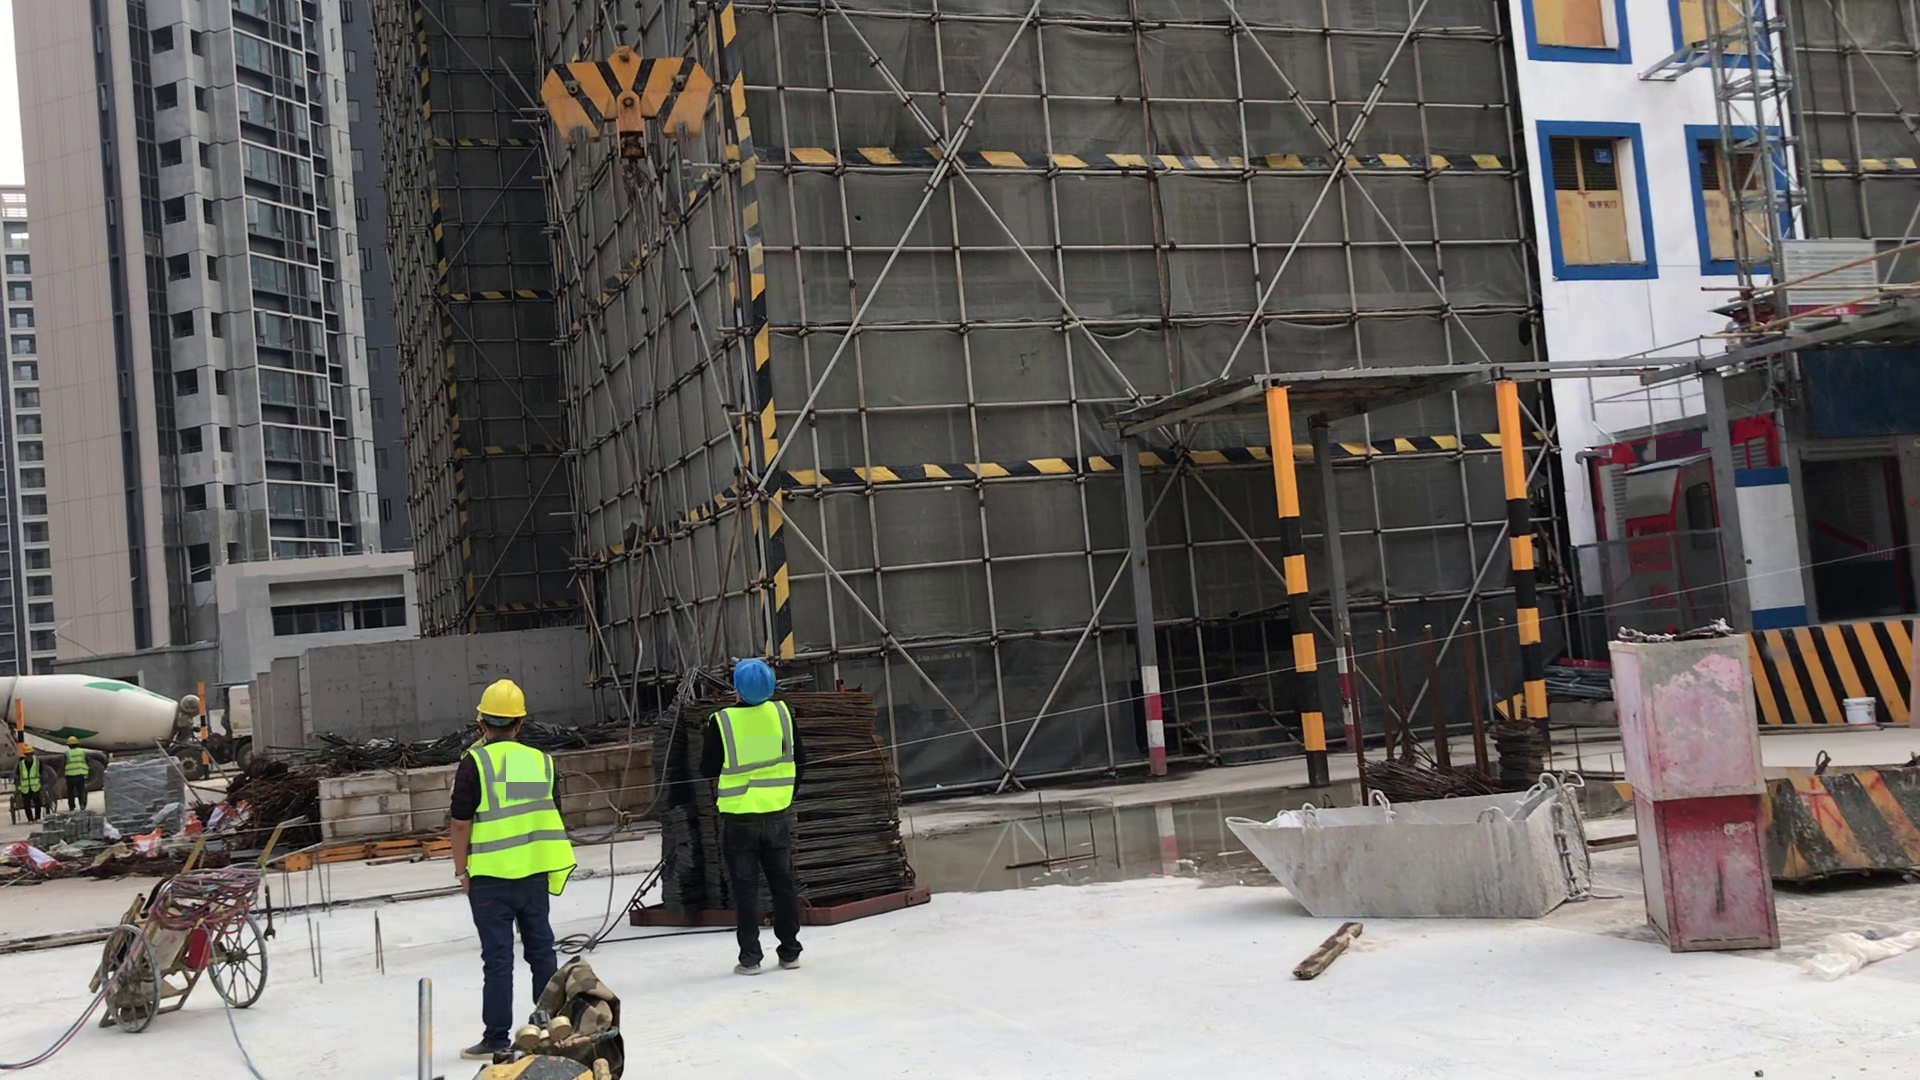handcart: (86, 805, 311, 1037)
helmet: (733, 653, 779, 706), (474, 679, 526, 720), (21, 743, 34, 753), (67, 736, 80, 746)
hook: (523, 24, 727, 209)
hopper: (1224, 779, 1596, 924), (1768, 746, 1920, 896)
person: (433, 679, 596, 1052), (686, 654, 825, 979), (12, 741, 48, 825), (57, 736, 93, 814)
vest: (460, 743, 568, 896), (710, 707, 791, 813), (19, 760, 41, 798), (66, 750, 84, 777)
